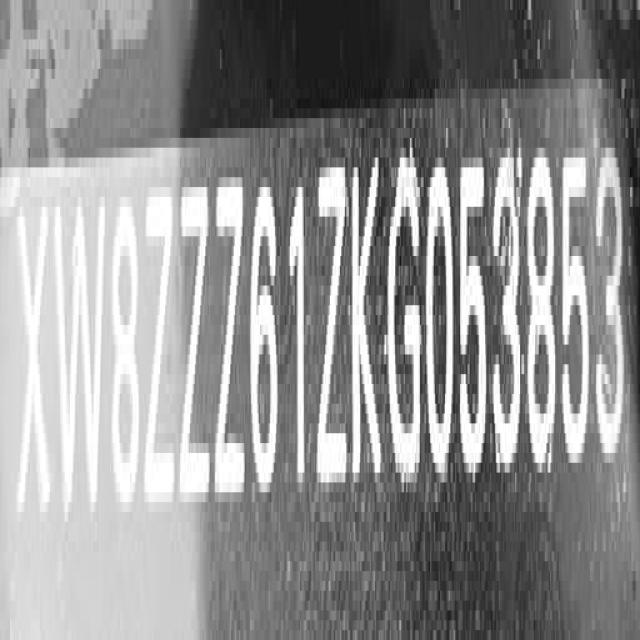0: (426, 152, 455, 494)
1: (288, 165, 310, 502)
3: (494, 153, 524, 486), (599, 144, 628, 468)
5: (459, 148, 489, 484), (562, 145, 592, 472)
6: (251, 170, 279, 507)
8: (111, 189, 142, 530), (527, 146, 557, 472)
G: (388, 149, 424, 485)
K: (351, 150, 384, 488)
W: (58, 193, 105, 542)
X: (16, 199, 50, 547)
Z: (314, 153, 346, 499), (215, 175, 246, 514), (147, 184, 178, 520), (181, 175, 210, 518)
